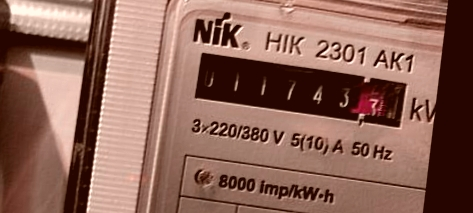0: (201, 62, 218, 90)
1: (227, 65, 245, 94), (255, 69, 271, 98)
3: (335, 83, 352, 111), (363, 96, 381, 119)
4: (309, 81, 326, 107)
7: (282, 75, 299, 102)
screen: (185, 46, 417, 136)
